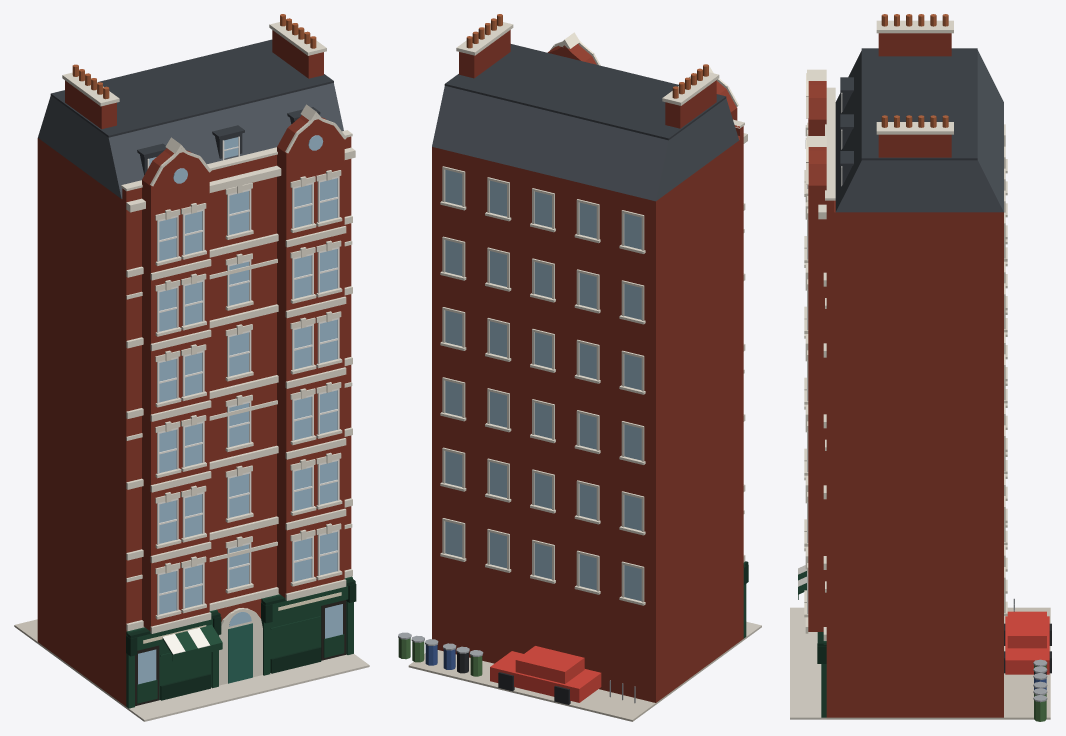
The model's file is Blok_duz_7k_1_Hafif.fbx.
The picture shows the model from 3 angles, left to right: view 1: azimuth 30°, elevation 25°; view 2: azimuth 150°, elevation 25°; view 3: azimuth 270°, elevation 25°; orthographic projection.
Visible parts, largest first — view 1: Blok_duz_7k_1_Hafif; view 2: Blok_duz_7k_1_Hafif; view 3: Blok_duz_7k_1_Hafif.
Part boxes in pixels (<box>): Blok_duz_7k_1_Hafif: <box>14,14,369,721</box>; Blok_duz_7k_1_Hafif: <box>398,14,761,721</box>; Blok_duz_7k_1_Hafif: <box>790,14,1051,721</box>.
Bounding box in the file's own units: 10.69 × 25.34 × 10.04.
